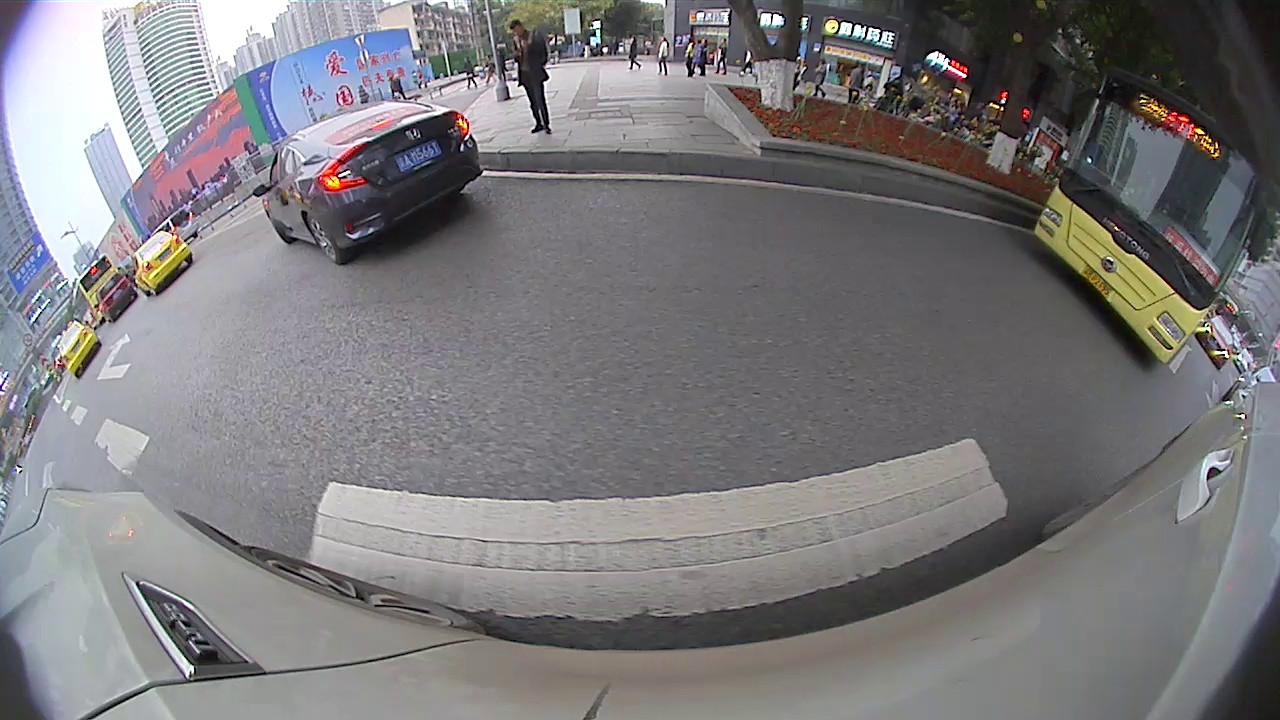bus: (1026, 56, 1272, 374)
car: (249, 93, 484, 270), (129, 226, 195, 301), (50, 315, 104, 381), (1200, 315, 1238, 374)
person: (503, 14, 559, 141)
rear: (301, 211, 347, 266)
